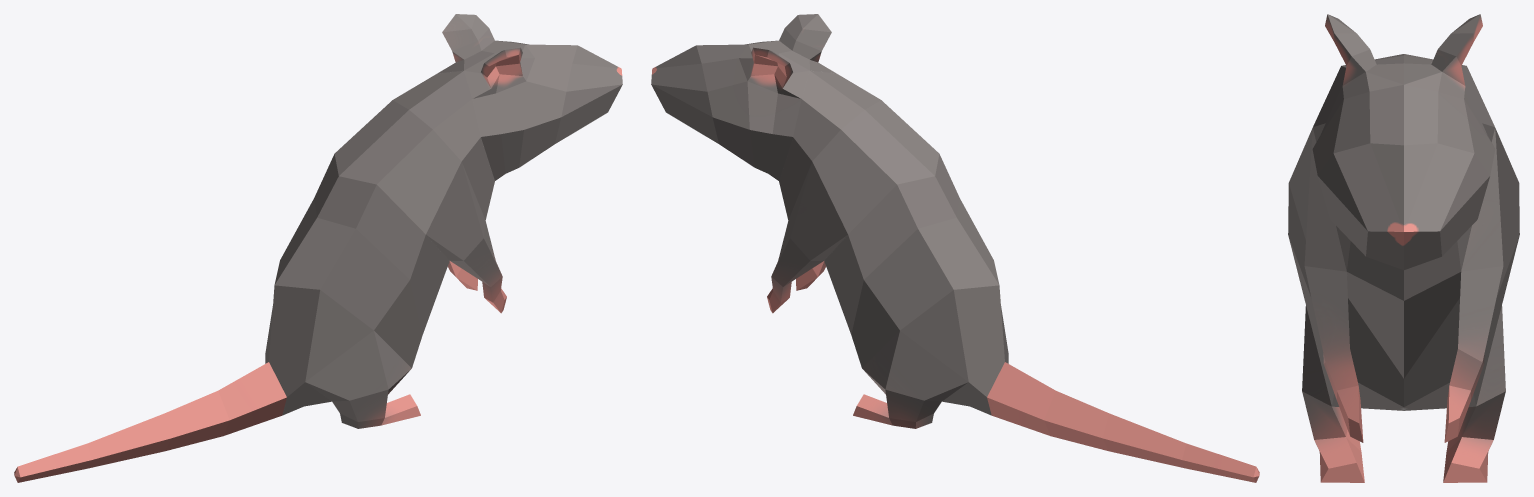
The model's file is SM_ratSeated_Manley.fbx.
The picture shows the model from 3 angles, left to right: view 1: azimuth 30°, elevation 25°; view 2: azimuth 150°, elevation 25°; view 3: azimuth 270°, elevation 25°; orthographic projection. The views are drawn at different scales.
Parts seen in each view (by area): view 1: Rat_Seated; view 2: Rat_Seated; view 3: Rat_Seated.
Boxes of the visible parts, x1,y1,x2,y2 form: Rat_Seated: [14, 14, 622, 482]; Rat_Seated: [651, 14, 1259, 482]; Rat_Seated: [1288, 14, 1519, 482].
Bounding box in the file's own units: 35.03 × 18.91 × 7.44.
